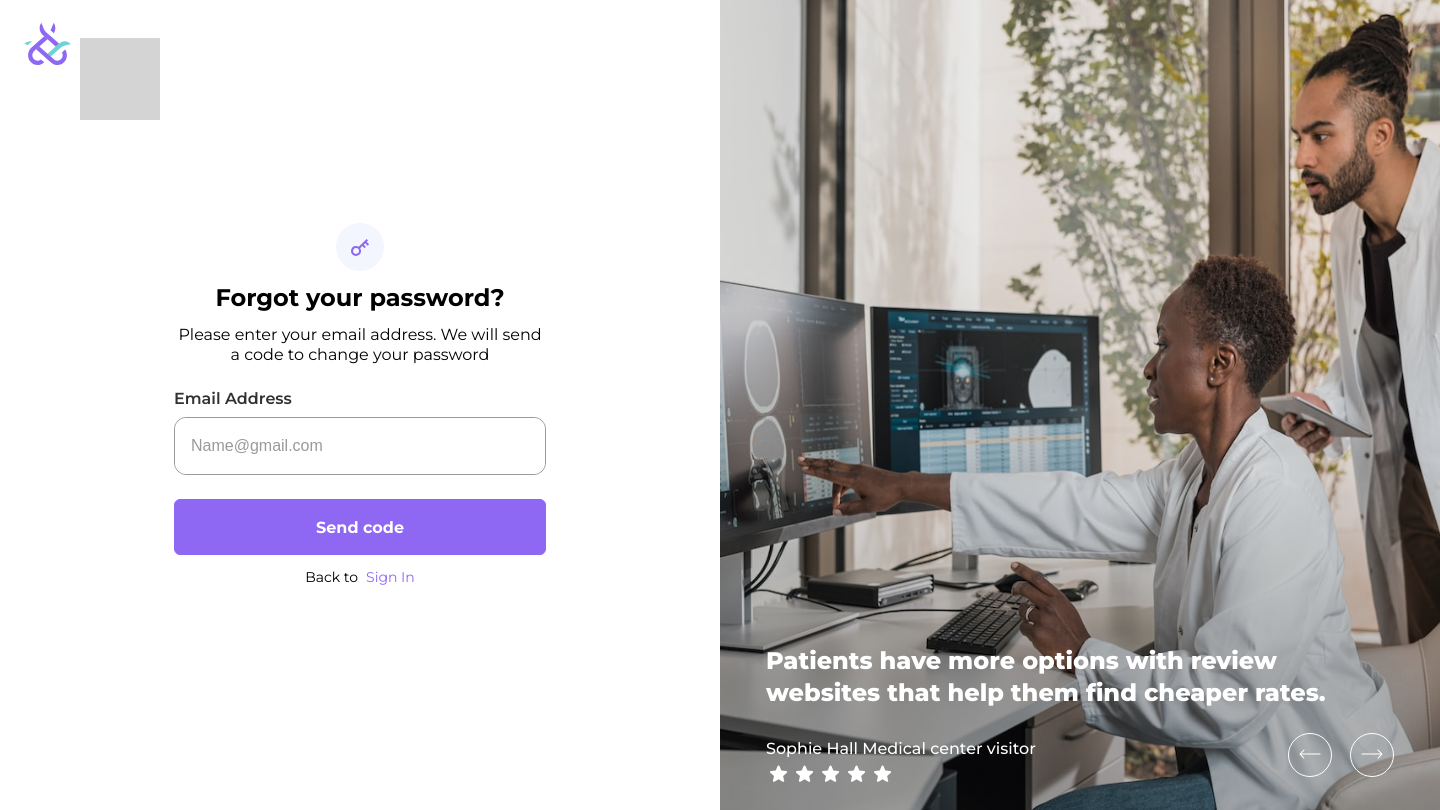
ForgotPasswordPage › does NOT submit the form with invalid input
Type "test123" into the field labelled "Email Address" at (360, 446), box top-left (175, 418), bottom-right (545, 474)
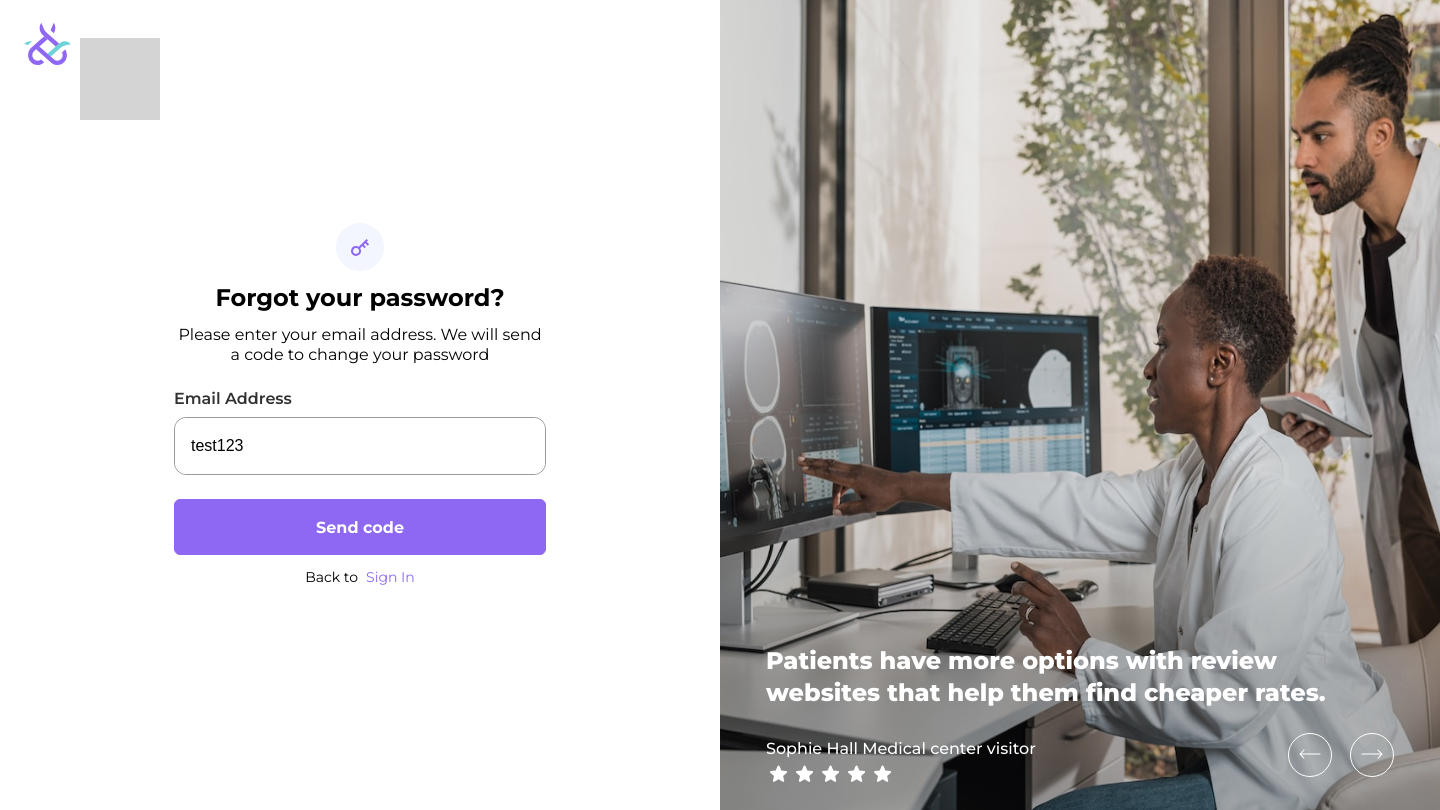
submit the form
Click the button "Send code" at (360, 527), box top-left (174, 499), bottom-right (546, 555)
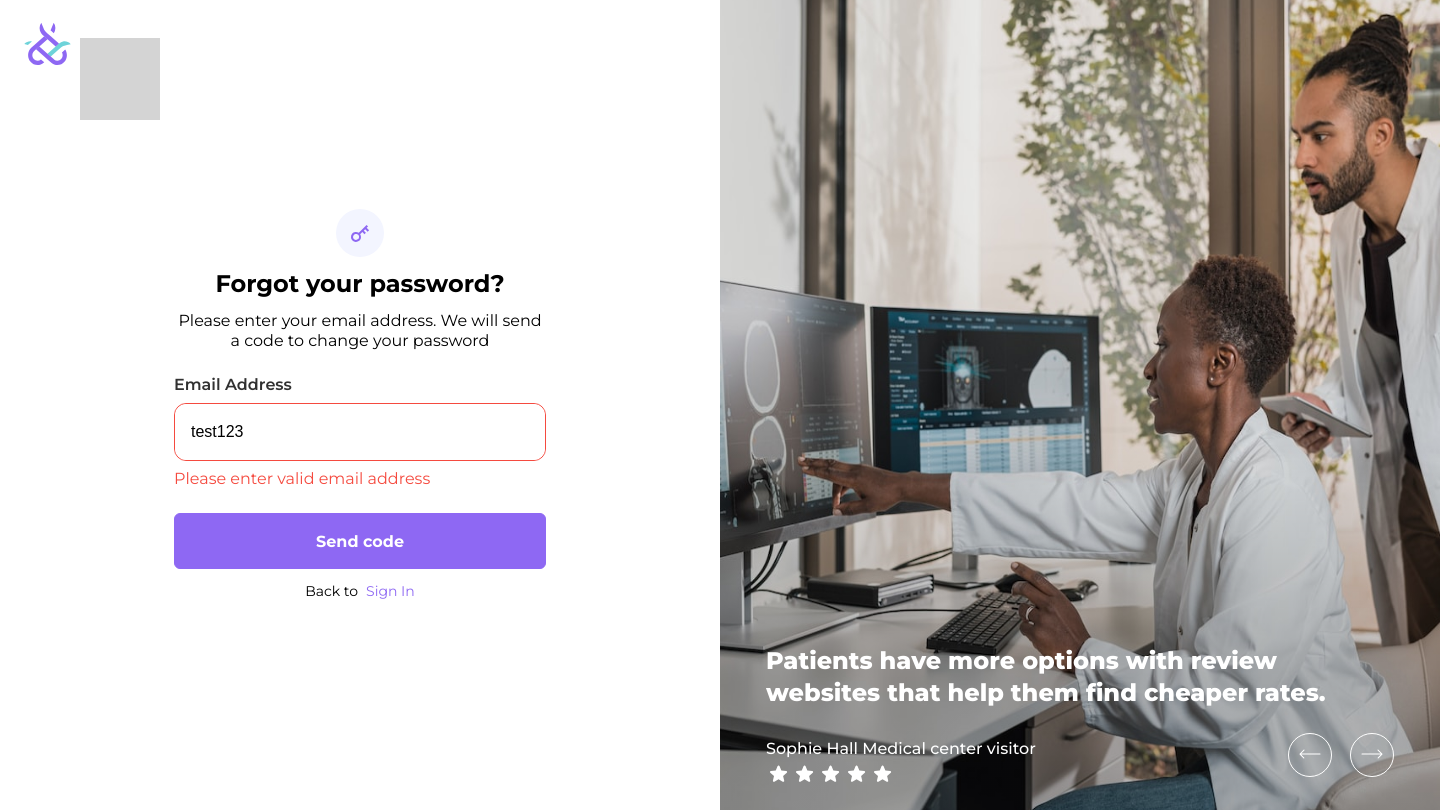
Expected: the text "Please enter valid email address" is shown, top-left (174, 469), bottom-right (430, 488)
